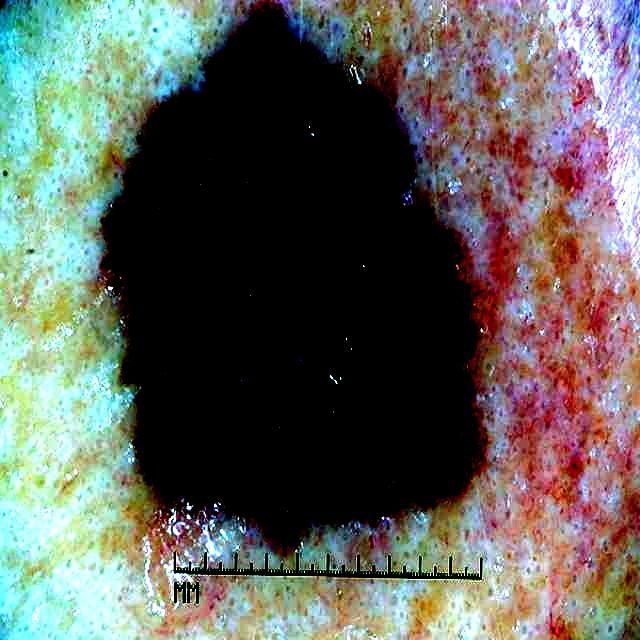MEL: (107, 14, 484, 541)
